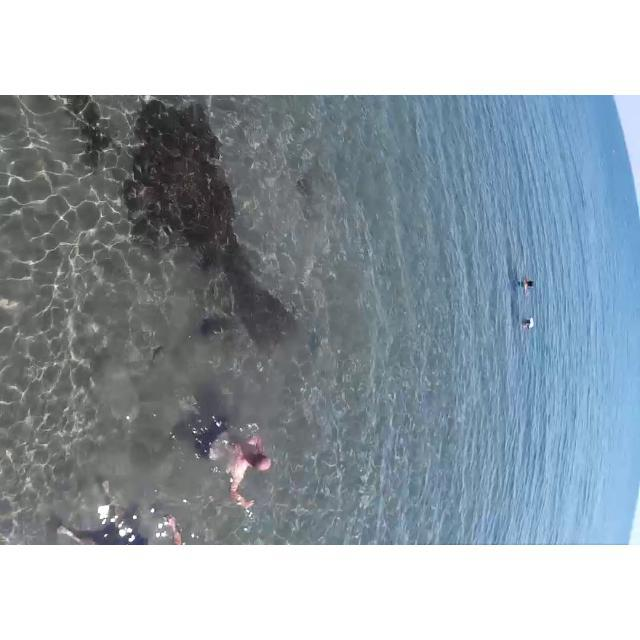human: (185, 397, 265, 529), (518, 308, 539, 337), (515, 272, 536, 293)
